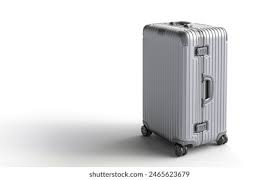suitcase: (137, 21, 232, 157)
